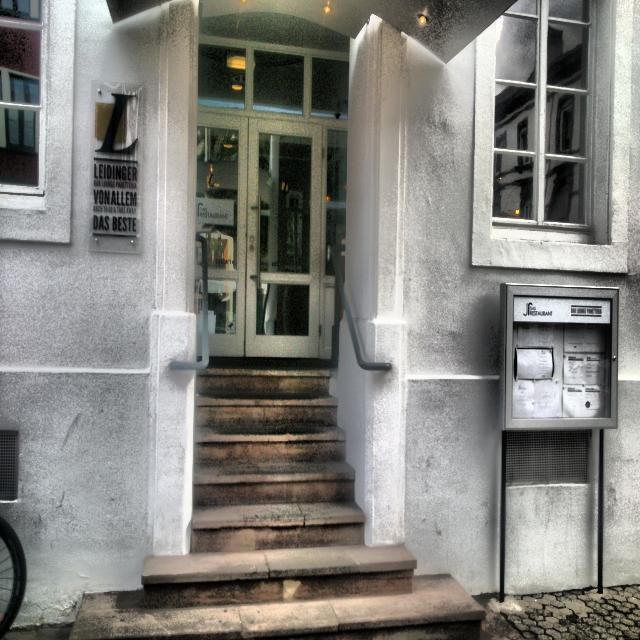escada: (192, 356, 481, 640)
